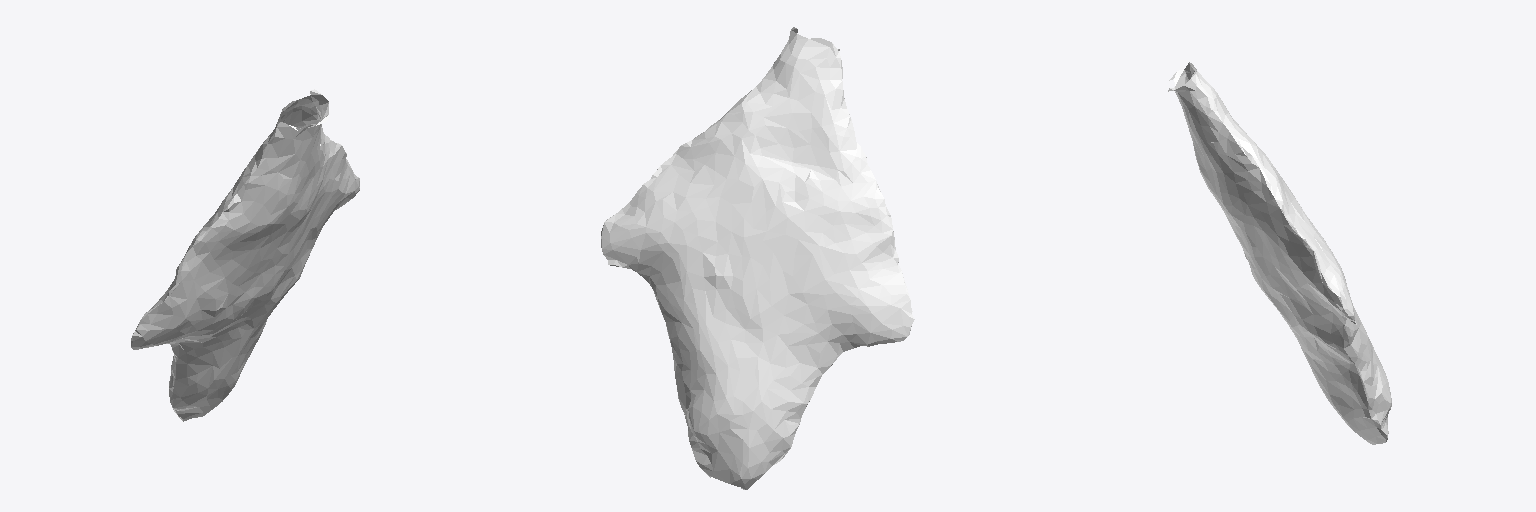
File: pc343real.obj
3 views of the same model, side by side, from view 1: azimuth 30°, elevation 25°; view 2: azimuth 150°, elevation 25°; view 3: azimuth 270°, elevation 25° (orthographic).
Parts seen in each view (by area): view 1: pc343; view 2: pc343; view 3: pc343.
Part boxes in pixels (bbox=[...]): pc343: bbox=[131, 89, 359, 421]; pc343: bbox=[601, 27, 914, 489]; pc343: bbox=[1168, 62, 1391, 444].
Bounding box in the file's own units: 0.3829 × 0.5236 × 0.2742.